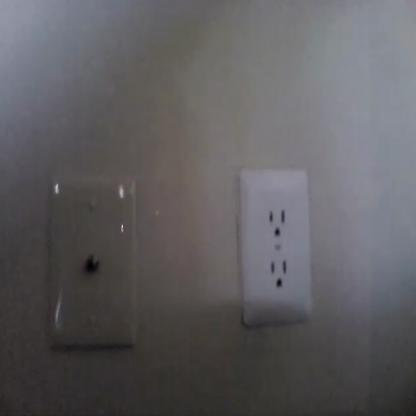OUTLET: (238, 166, 313, 327)
